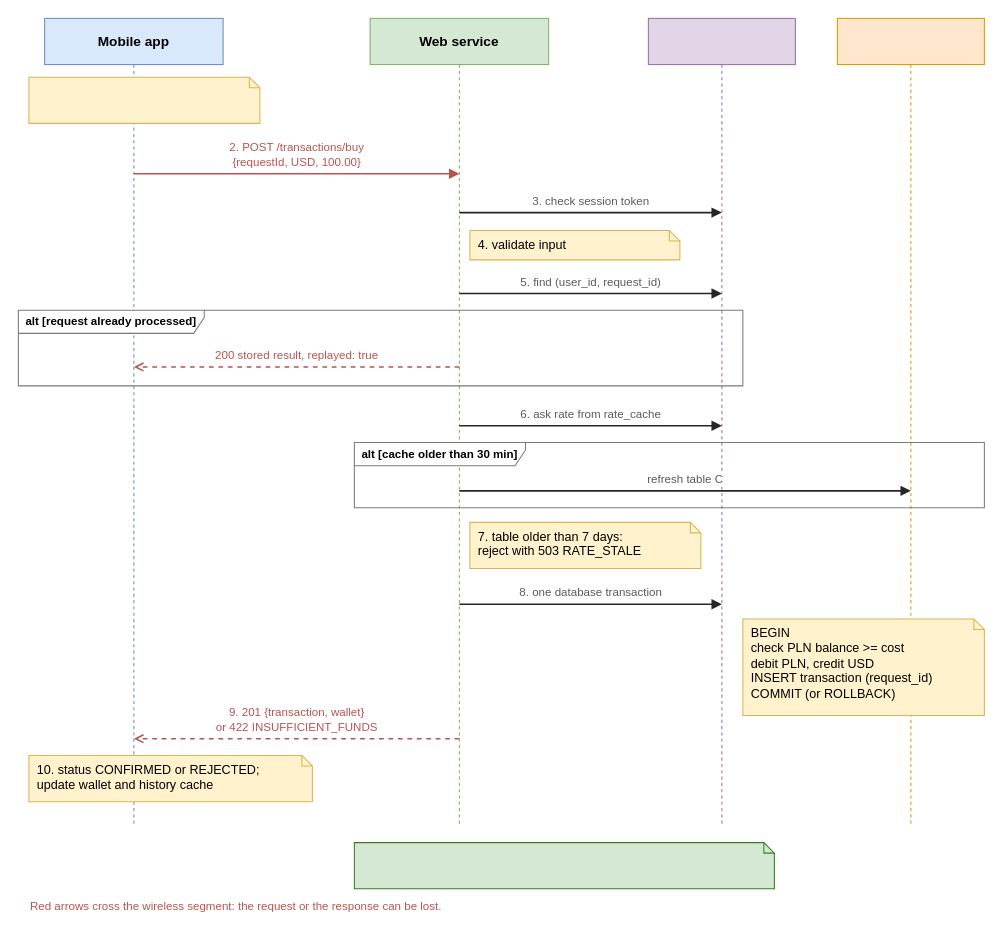
This 1003x933 diagram has some shape labels left out. The shapes that lost their labels are listed below. From the top down, each one's box as (x1, y1, x2, y2) in pixels, then its label:
(28, 76, 260, 123): 1. requestId = randomUUID() save as pending (SENT)
(647, 17, 795, 827): SQLite
(836, 17, 984, 827): NBP API
(353, 842, 774, 889): The web service decides the outcome. SQLite stores it; the app only shows it.
